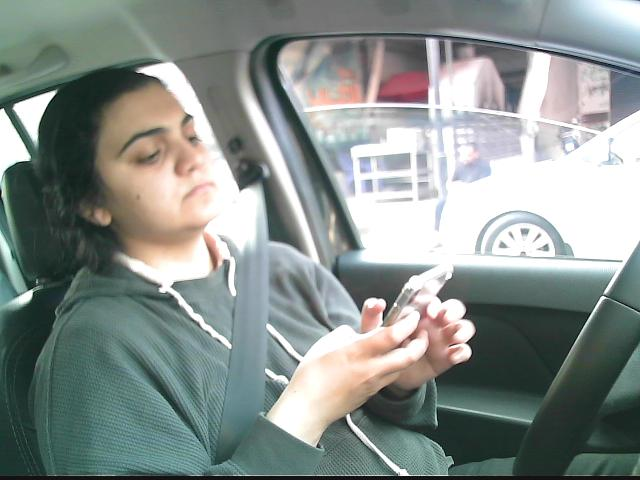PhoneUse: (356, 257, 457, 374)
